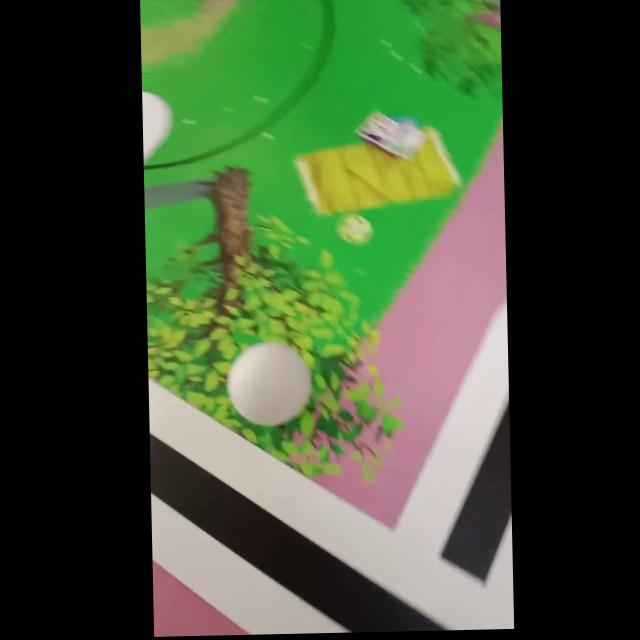white ball: (225, 340, 313, 428)
